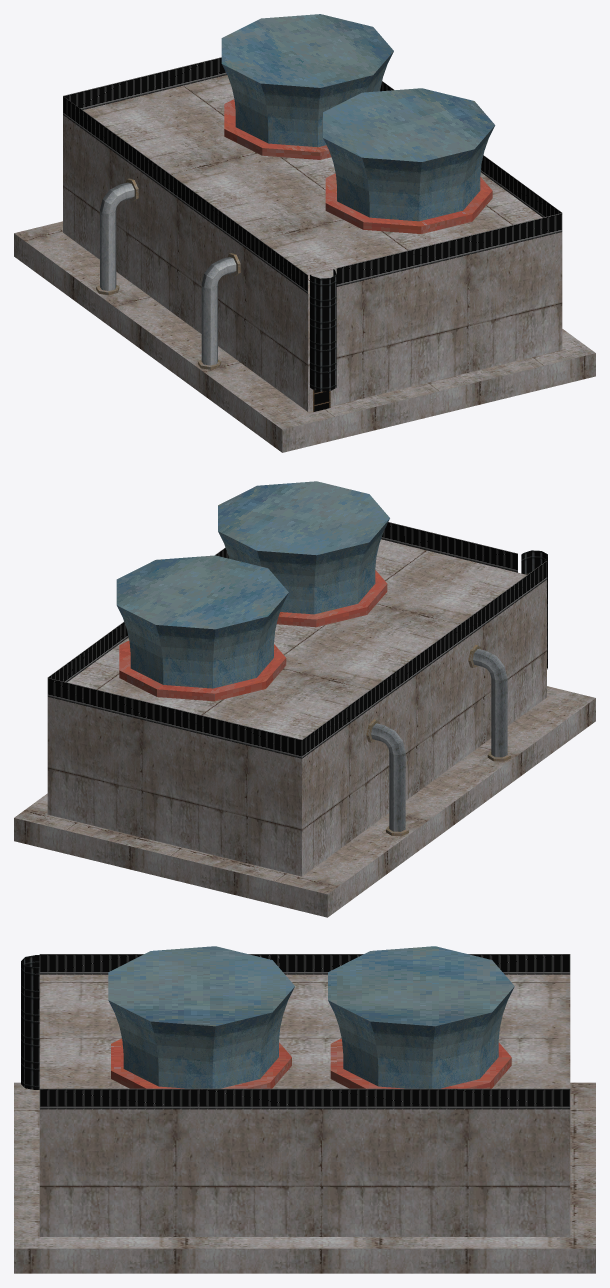
The model's file is cuntplant06.obj.
The picture shows the model from 3 angles, top to bottom: view 1: azimuth 30°, elevation 25°; view 2: azimuth 150°, elevation 25°; view 3: azimuth 270°, elevation 25°; orthographic projection. The views are drawn at different scales.
Visible parts, largest first — view 1: cuntplant06; view 2: cuntplant06; view 3: cuntplant06.
Part boxes in pixels (box(x1,y1,x2,y2)): cuntplant06: box(14, 14, 595, 452); cuntplant06: box(14, 481, 595, 917); cuntplant06: box(14, 946, 595, 1273).
Size of the model in its own units: 28.2 by 18.42 by 41.8.
Materials: 8 (8 with a texture image).
